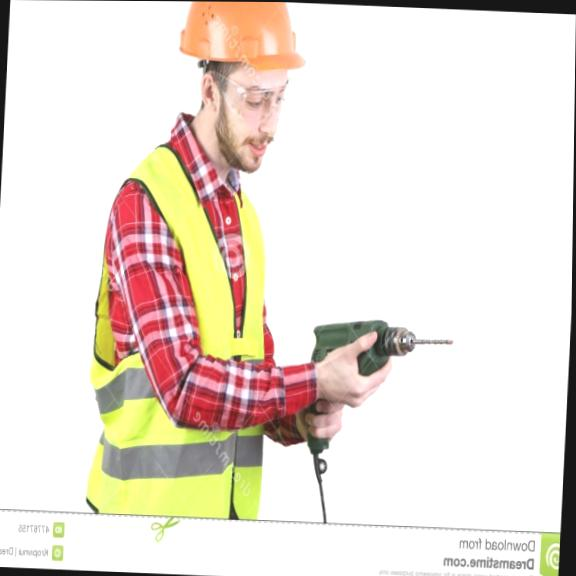safety_vest: (73, 154, 293, 529)
